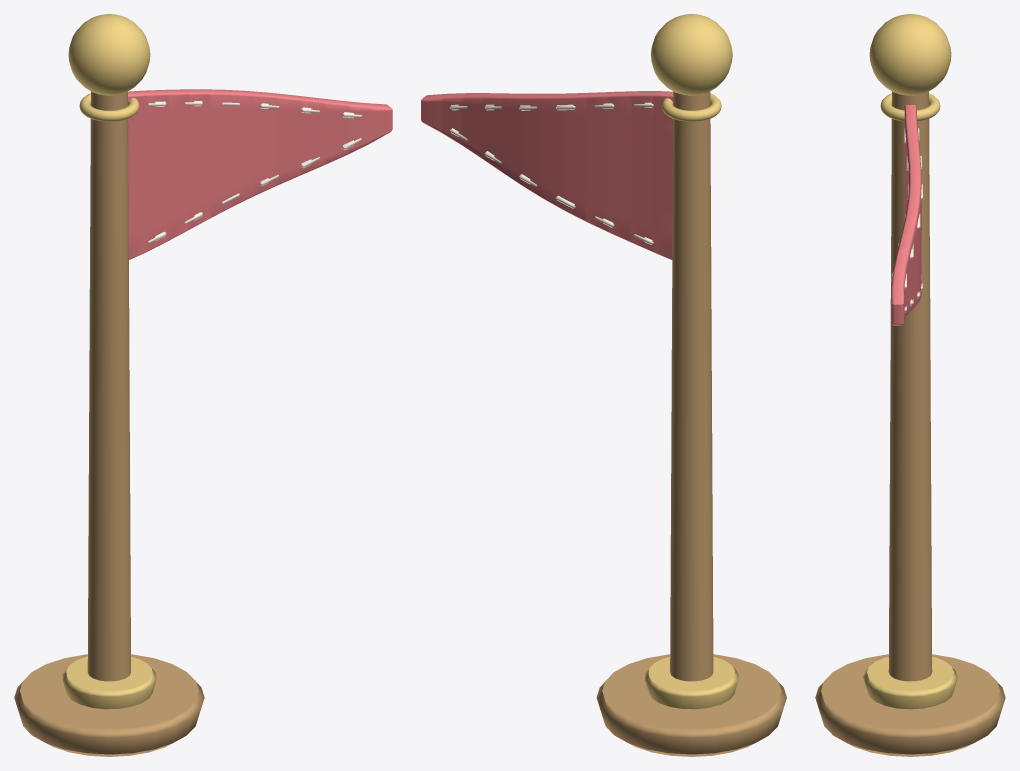
The model's file is checkpoint_flag_felt.glb.
The picture shows the model from 3 angles, left to right: view 1: azimuth 30°, elevation 25°; view 2: azimuth 150°, elevation 25°; view 3: azimuth 270°, elevation 25°; orthographic projection.
Parts seen in each view (by area): view 1: FlagCloth, FlagPole, FlagBase, FlagFinial, FlagCollar, FlagPoleRing; view 2: FlagCloth, FlagPole, FlagBase, FlagFinial, FlagCollar, FlagPoleRing; view 3: FlagPole, FlagBase, FlagFinial, FlagCloth, FlagCollar, FlagPoleRing.
Part boxes in pixels (x1,y1,x2,y2): FlagCloth: (128,89,392,259); FlagPole: (87,91,130,681); FlagBase: (14,654,204,756); FlagFinial: (68,14,150,95); FlagCollar: (62,656,156,709); FlagPoleRing: (79,93,139,121); FlagCloth: (421,91,673,259); FlagPole: (670,91,713,681); FlagBase: (596,654,786,756); FlagFinial: (651,14,732,95); FlagCollar: (644,656,738,709); FlagPoleRing: (662,93,721,121); FlagPole: (888,91,932,681); FlagBase: (815,654,1005,756); FlagFinial: (869,14,951,95); FlagCloth: (891,105,921,325); FlagCollar: (863,656,957,709); FlagPoleRing: (880,93,940,121).
Size of the model in its own units: 1.61 by 3.04 by 0.7435.
